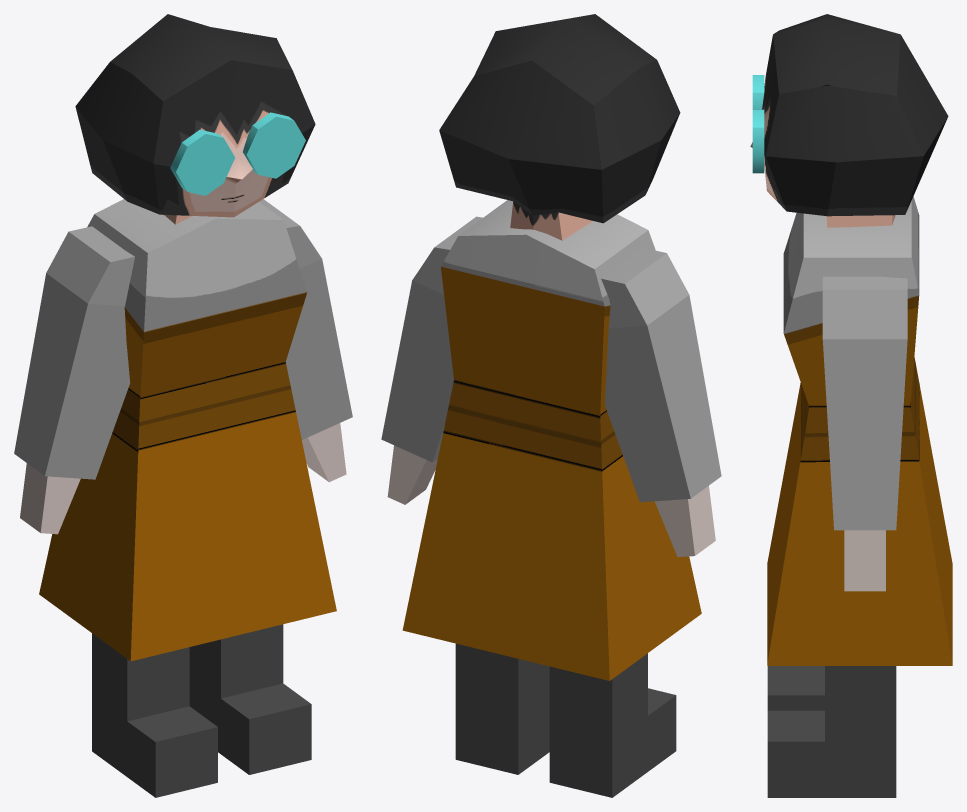
The model's file is researcher.fbx.
3 views of the same model, side by side, from view 1: azimuth 30°, elevation 25°; view 2: azimuth 150°, elevation 25°; view 3: azimuth 270°, elevation 25° (orthographic).
Parts seen in each view (by area): view 1: torso, head, rightarm, rightleg, leftleg, leftarm, pCube9, pCube10; view 2: torso, head, rightarm, rightleg, leftarm, leftleg; view 3: torso, head, leftarm, leftleg, rightleg, pCube10, pCube9.
Boxes of the visible parts, x1,y1,x2,y2 form: torso: (39, 199, 336, 661); head: (75, 14, 315, 224); rightarm: (14, 226, 134, 534); rightleg: (92, 633, 217, 797); leftleg: (189, 624, 311, 774); leftarm: (259, 199, 352, 482); pCube9: (170, 129, 235, 195); pCube10: (243, 112, 305, 178); torso: (402, 200, 701, 680); head: (439, 14, 680, 240); rightarm: (601, 247, 721, 557); rightleg: (549, 653, 676, 797); leftarm: (381, 216, 482, 504); leftleg: (455, 643, 549, 774); torso: (767, 196, 952, 665); head: (750, 14, 948, 227); leftarm: (822, 276, 907, 591); leftleg: (767, 666, 896, 797); rightleg: (767, 666, 824, 710); pCube10: (752, 109, 764, 173); pCube9: (752, 75, 764, 109).
Bounding box in the file's own units: 3.11 × 7.05 × 1.75.
6 materials, 2 textured.
